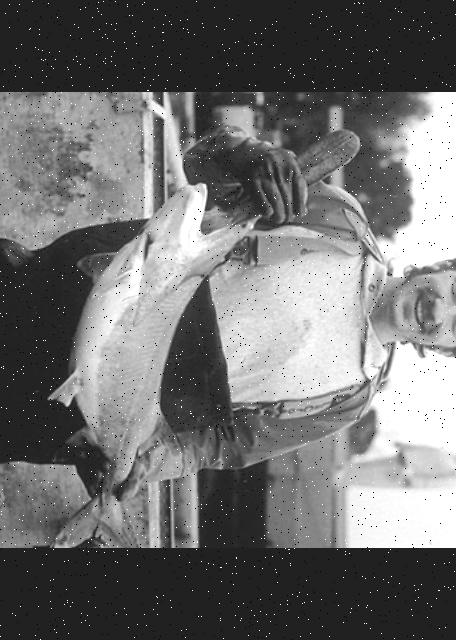Mulut: (172, 162, 248, 276)
Sirip Anal: (40, 420, 106, 480)
Sirip Dada: (63, 224, 139, 312)
Sirip Ekor: (43, 488, 183, 548)
Sirip Perut: (24, 346, 90, 420)
Sirip Punggung: (124, 396, 188, 472)
